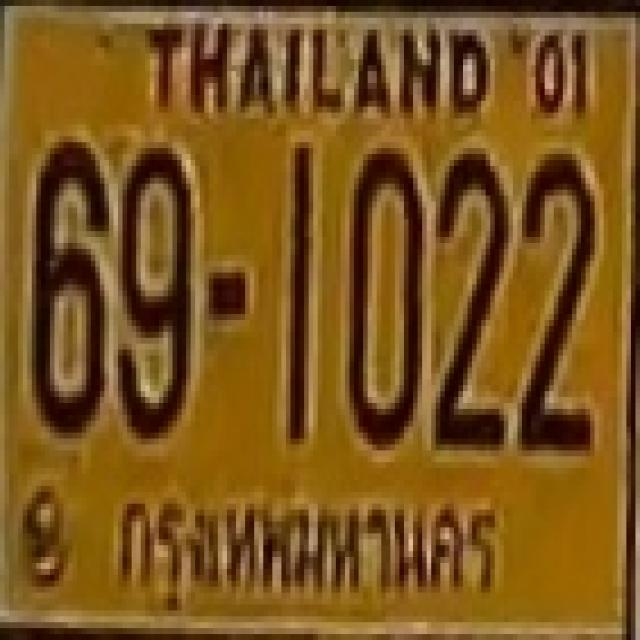0: (345, 145, 422, 442), (123, 142, 195, 391), (123, 142, 195, 338)
1: (288, 145, 311, 394)
2: (520, 151, 592, 406), (434, 151, 506, 406), (431, 196, 504, 444)
6: (34, 139, 111, 430)
9: (123, 142, 195, 433)
BKK: (104, 474, 513, 622)
